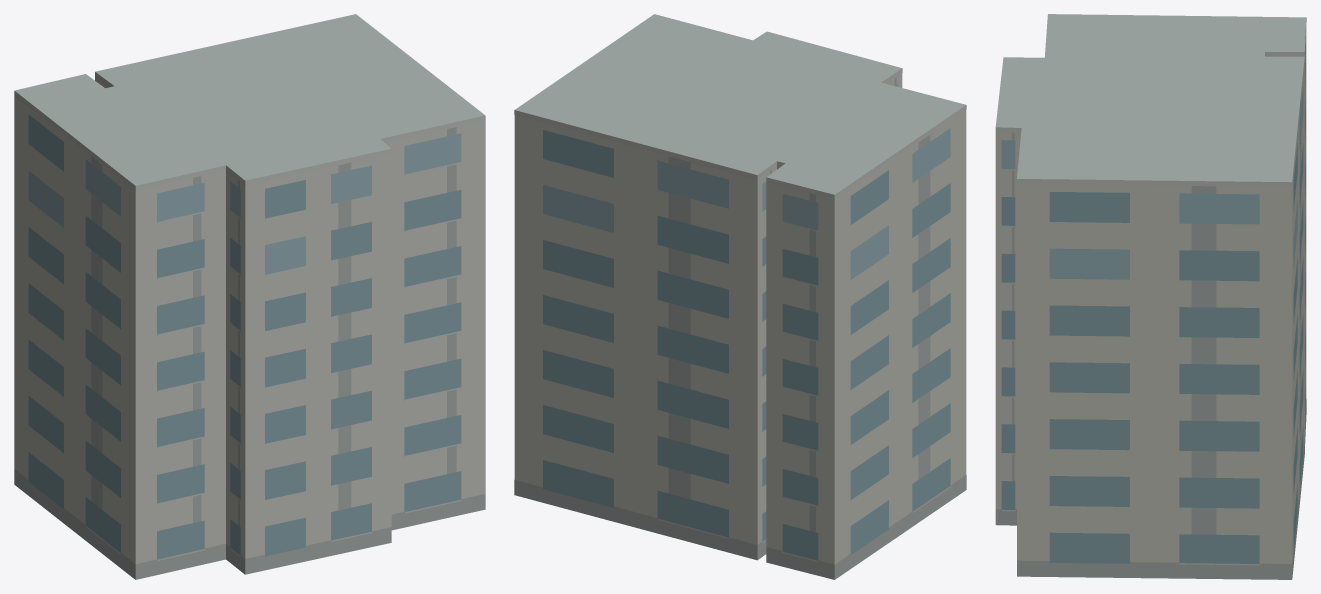
File: survey-upis-32561772.glb
The picture shows the model from 3 angles, left to right: view 1: azimuth 30°, elevation 25°; view 2: azimuth 150°, elevation 25°; view 3: azimuth 270°, elevation 25°; orthographic projection. The views are drawn at different scales.
Parts seen in each view (by area): view 1: survey-upis-32561772.tmp; view 2: survey-upis-32561772.tmp; view 3: survey-upis-32561772.tmp.
Part boxes in pixels (x1,y1,x2,y2): survey-upis-32561772.tmp: [14, 14, 485, 579]; survey-upis-32561772.tmp: [514, 14, 966, 579]; survey-upis-32561772.tmp: [995, 14, 1306, 579].
Size of the model in its own units: 17.42 by 19.2 by 13.61.
